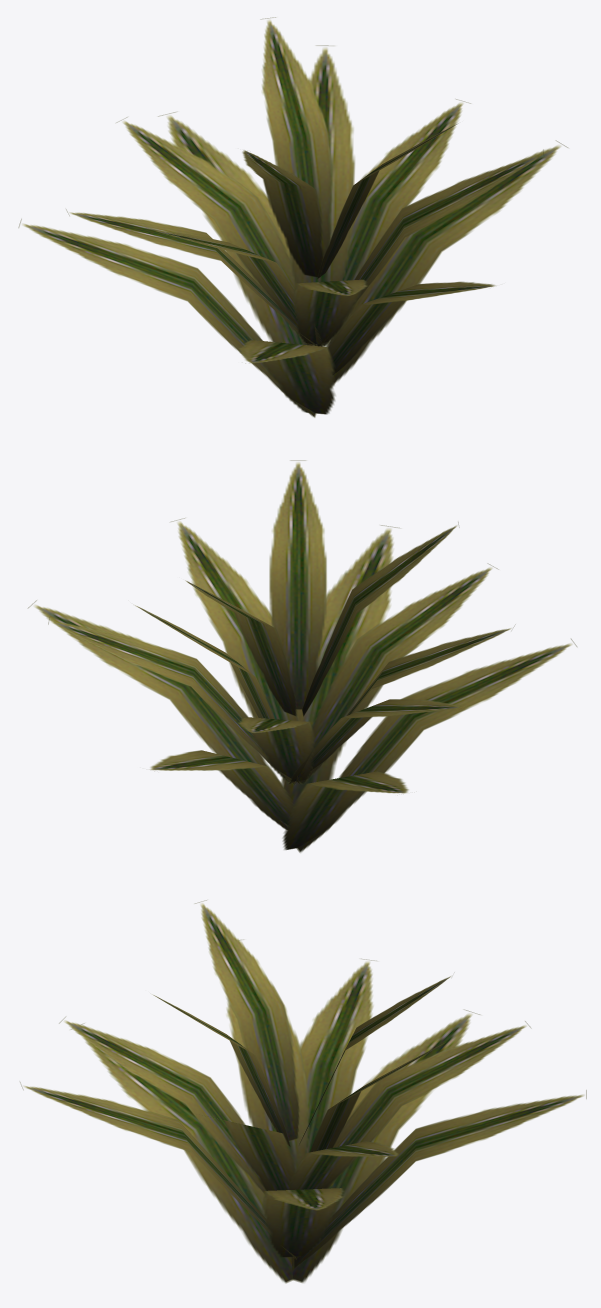
File: plant-17.glb
The picture shows the model from 3 angles, top to bottom: view 1: azimuth 30°, elevation 25°; view 2: azimuth 150°, elevation 25°; view 3: azimuth 270°, elevation 25°; orthographic projection. The views are drawn at different scales.
Visible parts, largest first — view 1: Plane_057; view 2: Plane_057; view 3: Plane_057.
Part boxes in pixels (x1=…): Plane_057: x1=18, y1=17, x2=567, y2=417; Plane_057: x1=28, y1=460, x2=576, y2=852; Plane_057: x1=20, y1=900, x2=586, y2=1283.
Size of the model in its own units: 4.44 by 2.84 by 4.58.
Materials: 1 (1 with a texture image).
